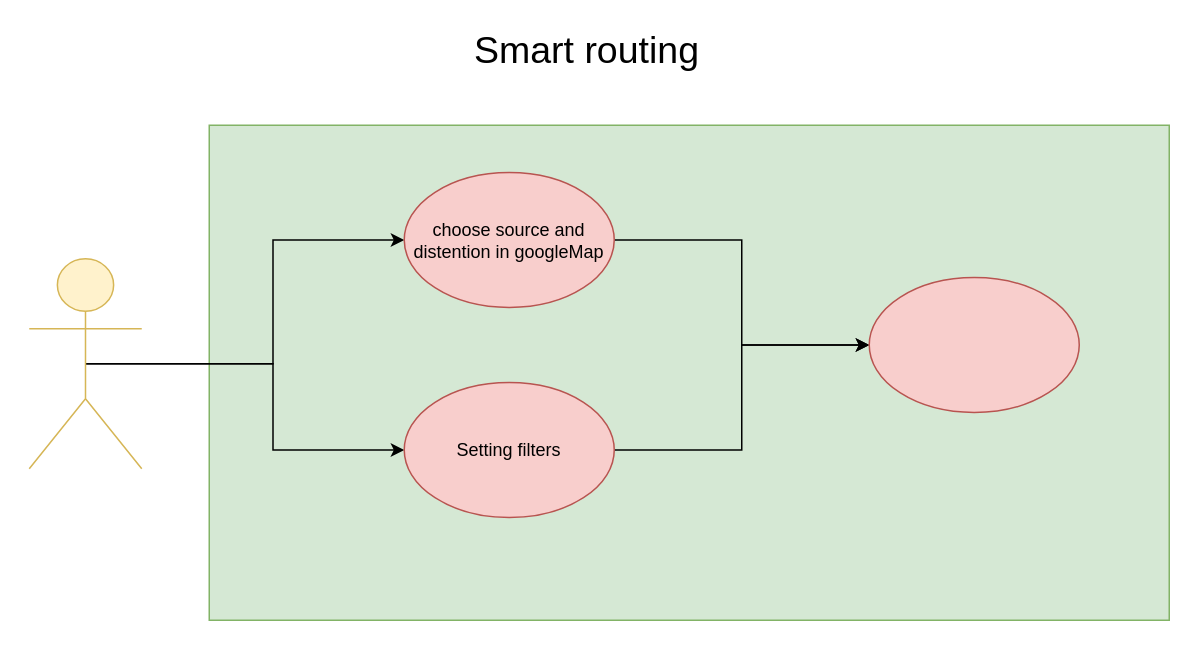
Some shapes in this 1196 by 647 pixel diagram are drawn without their labels. The shapes that lost their labels are listed below. From the top down, each one's box as (x1, y1, x2, y2) in pixels, then its label:
(28, 257, 142, 469): Logged In user
(868, 276, 1079, 412): observing result includes best rout and device
